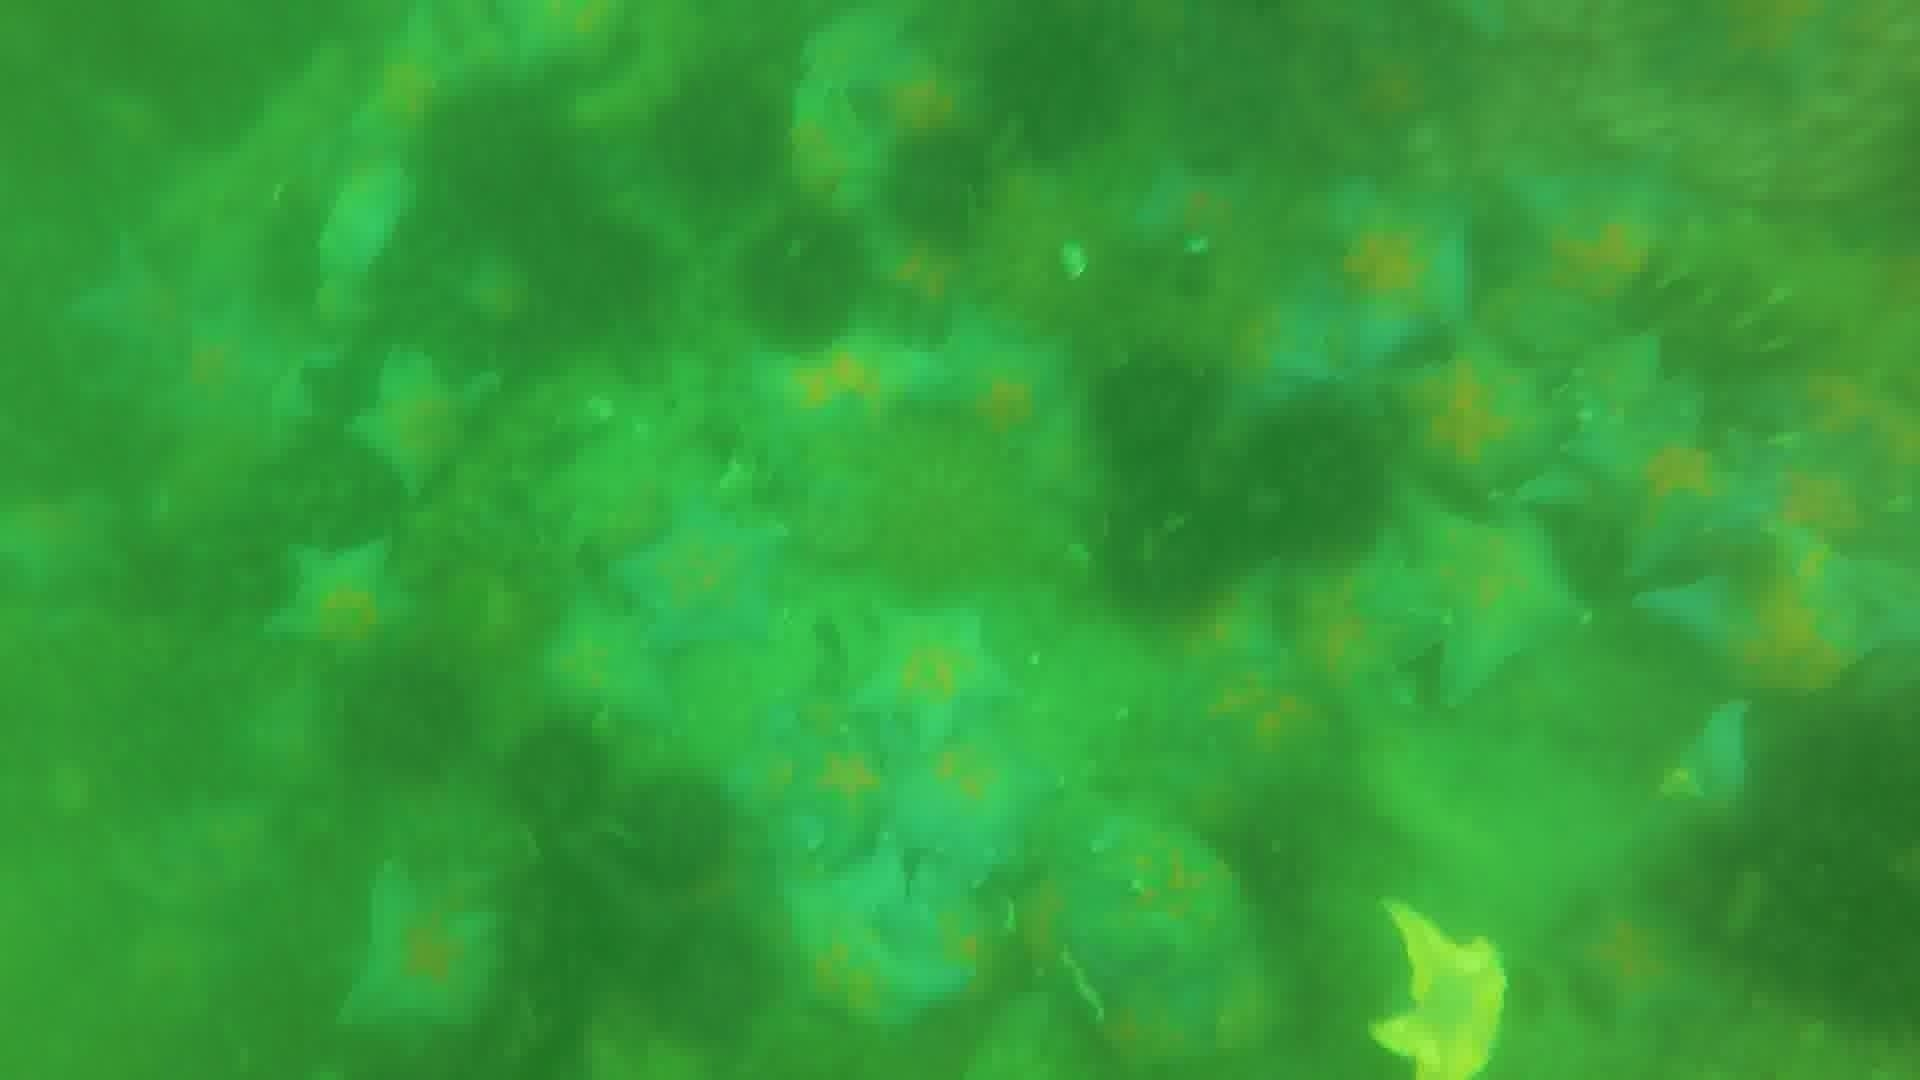echinus: (737, 328, 948, 473), (1222, 398, 1394, 564), (856, 436, 1030, 596), (774, 899, 953, 1038), (419, 80, 578, 229), (972, 13, 1131, 160), (1092, 483, 1238, 618), (640, 909, 774, 1048), (735, 210, 870, 345), (647, 73, 787, 203), (339, 651, 476, 783), (1087, 347, 1216, 475), (611, 770, 738, 891), (531, 214, 661, 334), (880, 132, 996, 249), (500, 717, 613, 832), (251, 196, 334, 316)
holothurian: (1672, 198, 1898, 364)
starfish: (1141, 566, 1411, 814), (1642, 535, 1903, 705), (1487, 156, 1701, 336), (1385, 510, 1581, 703), (1561, 411, 1774, 585), (1284, 181, 1478, 367), (1054, 814, 1247, 980), (738, 328, 949, 473), (335, 868, 512, 1040), (611, 497, 791, 659), (1386, 338, 1571, 495), (1364, 906, 1516, 1077), (1733, 359, 1915, 502), (67, 233, 235, 386), (1200, 280, 1352, 448), (1650, 4, 1879, 115), (1545, 891, 1721, 1035), (773, 898, 953, 1036), (1738, 414, 1912, 554), (886, 731, 1056, 873), (851, 607, 1015, 749), (345, 351, 498, 502), (113, 789, 295, 915), (918, 319, 1076, 462), (264, 539, 422, 680), (530, 592, 680, 736), (746, 725, 899, 862), (874, 886, 1029, 1019), (345, 29, 488, 164), (157, 301, 295, 436), (1087, 960, 1245, 1076), (843, 50, 998, 165), (1648, 709, 1778, 833), (781, 79, 890, 218), (1324, 37, 1461, 146), (1, 485, 129, 601), (311, 171, 426, 301), (858, 225, 978, 340), (1127, 160, 1257, 262), (491, 3, 638, 88)
